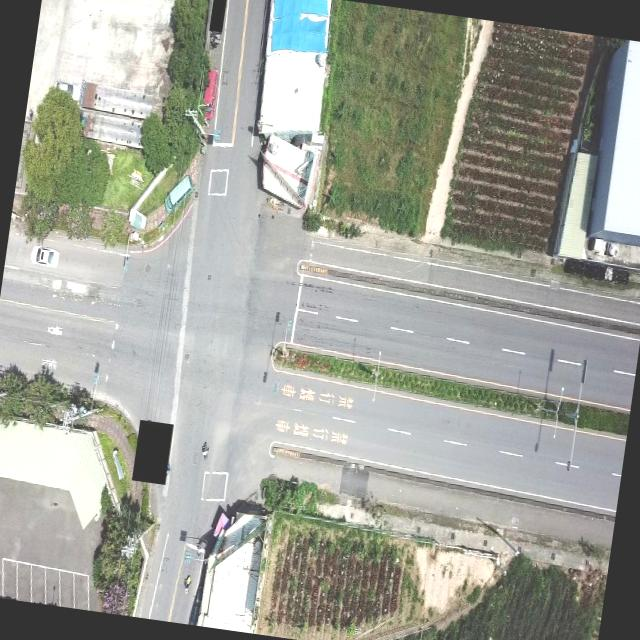car: (198, 64, 222, 122), (52, 79, 85, 105), (31, 244, 60, 268)
